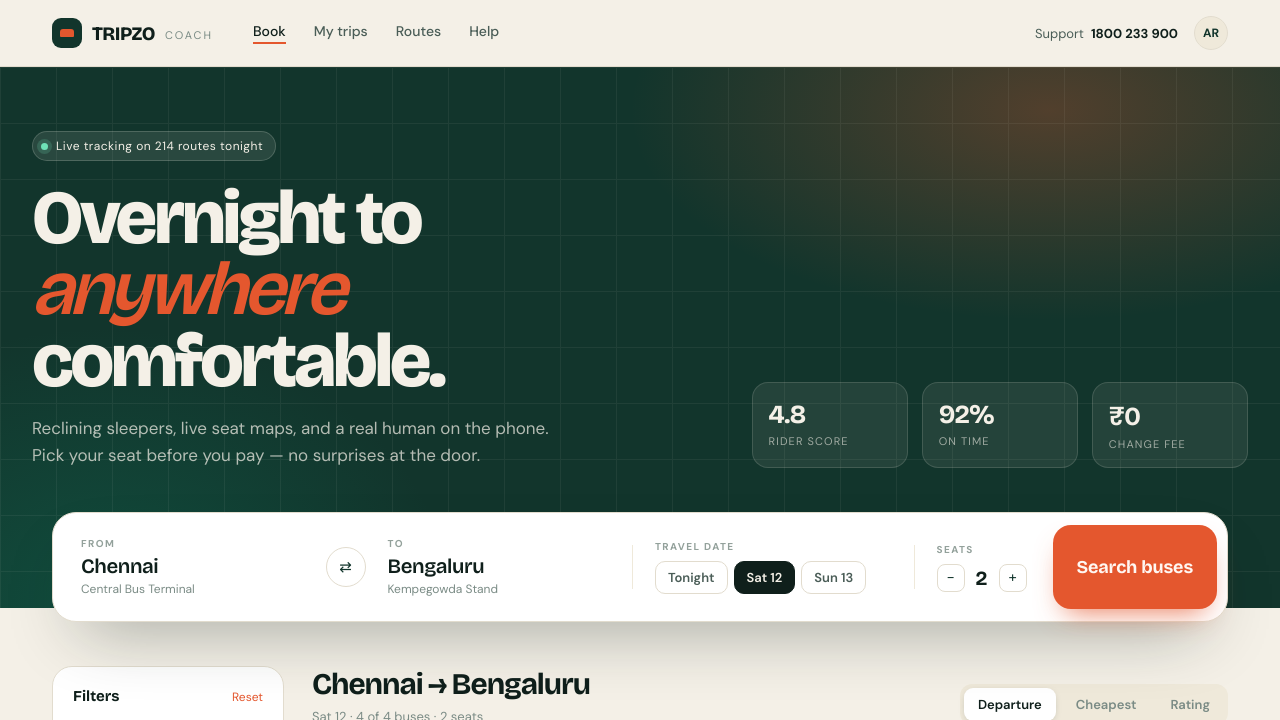
Test: routes page filters corridors by region
The width and height of the screenshot is (1280, 720).
Click the link "Routes" at (418, 33), box [396,22,441,44]
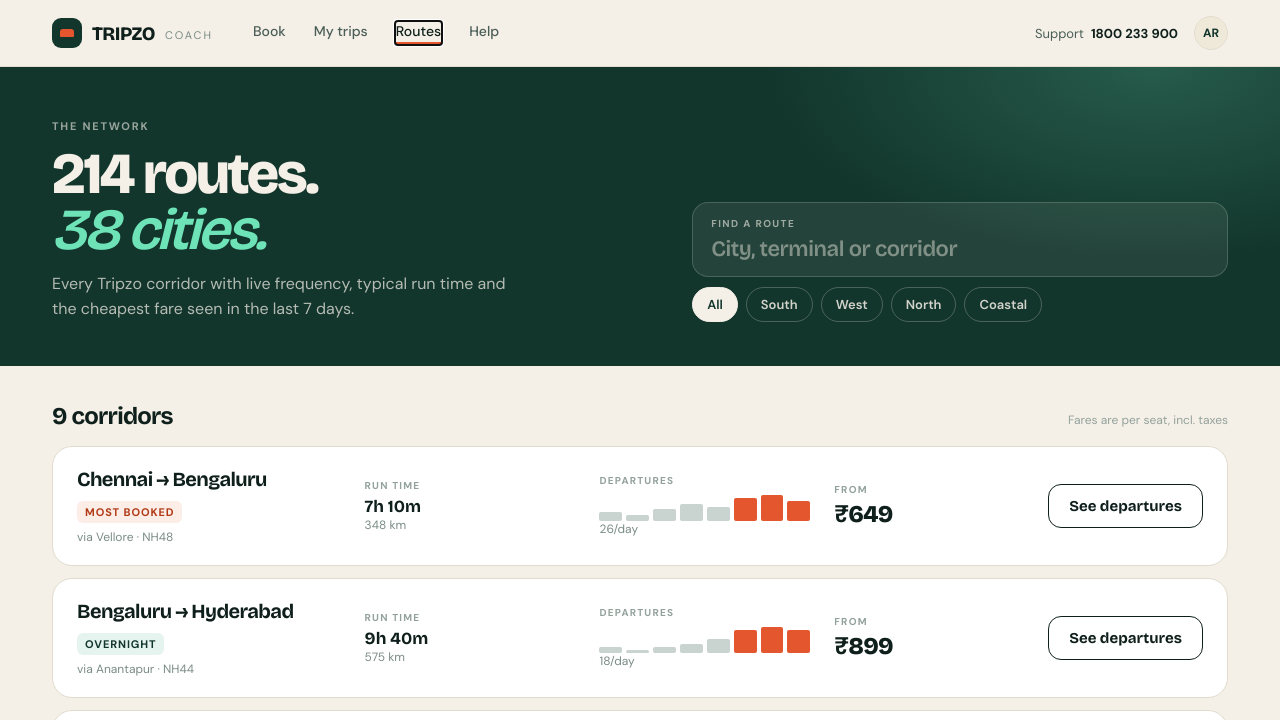
expect the heading "9 corridors" is shown: met, box [52,402,173,430]
Click the button "North" at (924, 304), box [891,287,956,322]
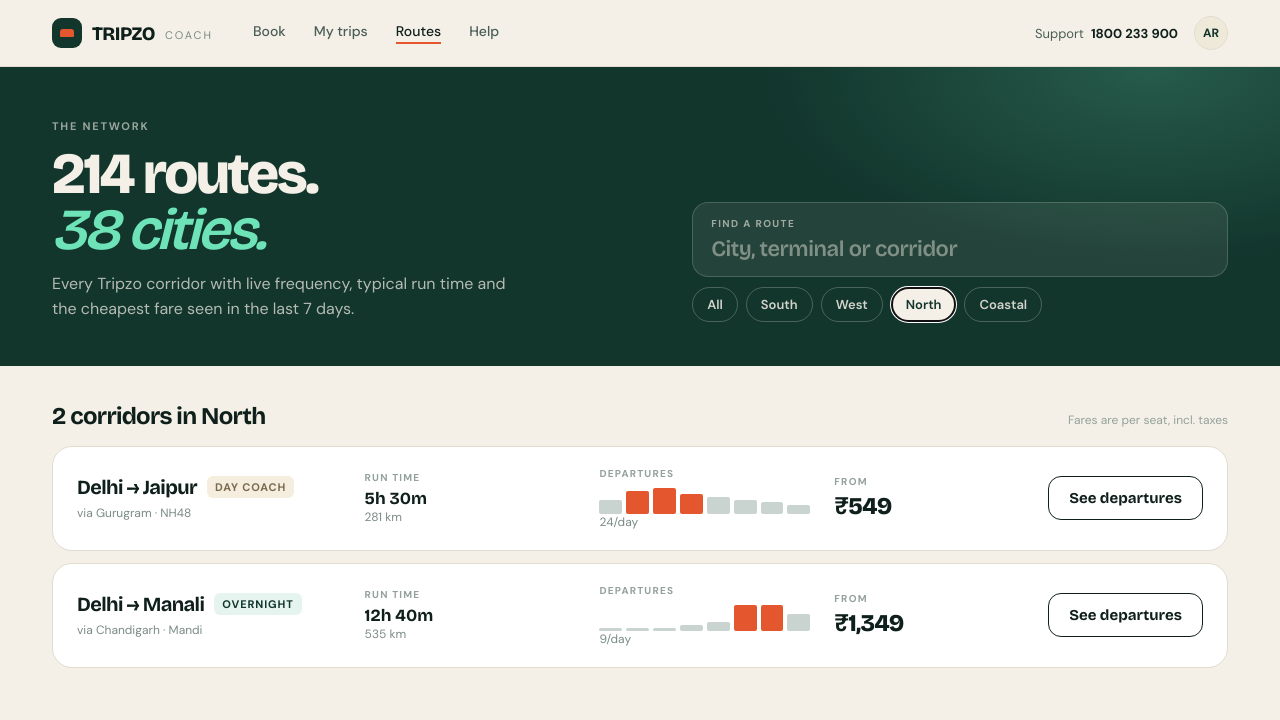
expect the heading "Delhi → Manali" is shown: met, box [77,592,204,616]
expect the heading "2 corridors in North" is shown: met, box [52,402,265,430]
